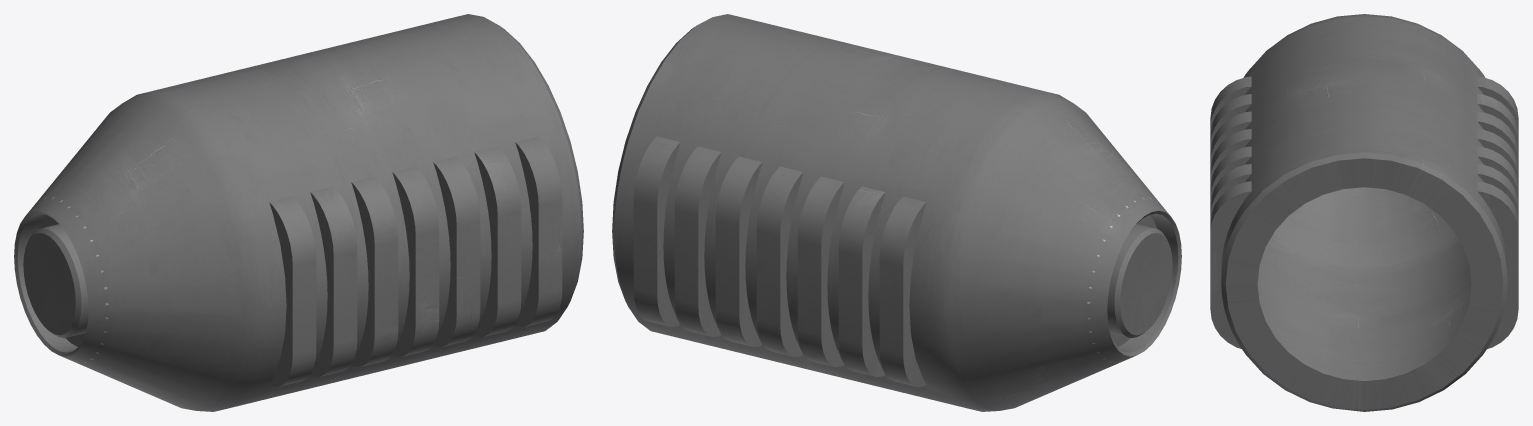
Rendered from pommel_16_u_a.glb.
3 renders of one model, left to right at view 1: azimuth 30°, elevation 25°; view 2: azimuth 150°, elevation 25°; view 3: azimuth 270°, elevation 25°, orthographic. The views are drawn at different scales.
Visible parts, largest first — view 1: pommel_16_u_a_lod0; view 2: pommel_16_u_a_lod0; view 3: pommel_16_u_a_lod0.
Part boxes in pixels (x1,y1,x2,y2): pommel_16_u_a_lod0: [14, 14, 583, 411]; pommel_16_u_a_lod0: [612, 14, 1181, 411]; pommel_16_u_a_lod0: [1210, 14, 1518, 411].
Size of what is drawn, in the model's own units: 0.0484 by 0.0302 by 0.0325.
Materials: 1 (1 with a texture image).
